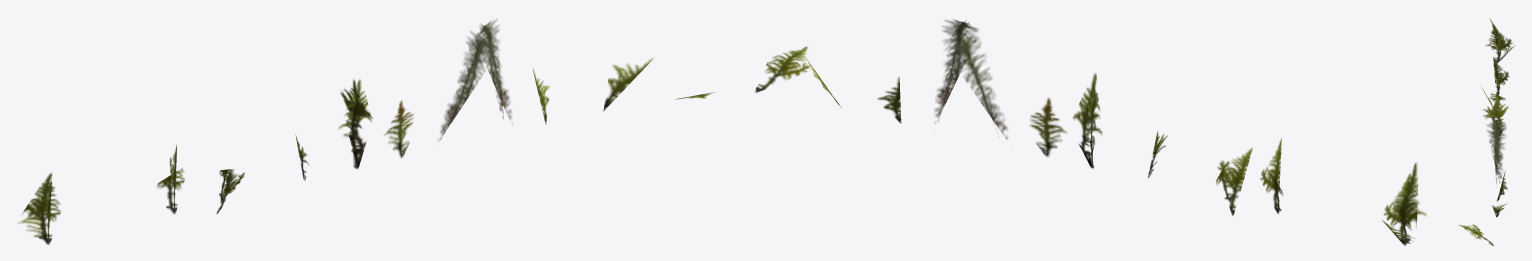
The model's file is moss_01.glb.
The picture shows the model from 3 angles, left to right: view 1: azimuth 30°, elevation 25°; view 2: azimuth 150°, elevation 25°; view 3: azimuth 270°, elevation 25°; orthographic projection. The views are drawn at different scales.
Visible parts, largest first — view 1: moss_01_c_LOD0; view 2: moss_01_c_LOD0; view 3: moss_01_c_LOD0.
Boxes of the visible parts, <box> form: moss_01_c_LOD0: <box>18,19,715,244</box>; moss_01_c_LOD0: <box>755,19,1426,245</box>; moss_01_c_LOD0: <box>1459,18,1515,245</box>.
Bounding box in the file's own units: 0.2119 × 0.0396 × 0.0294.
Materials: 1 (1 with a texture image).
